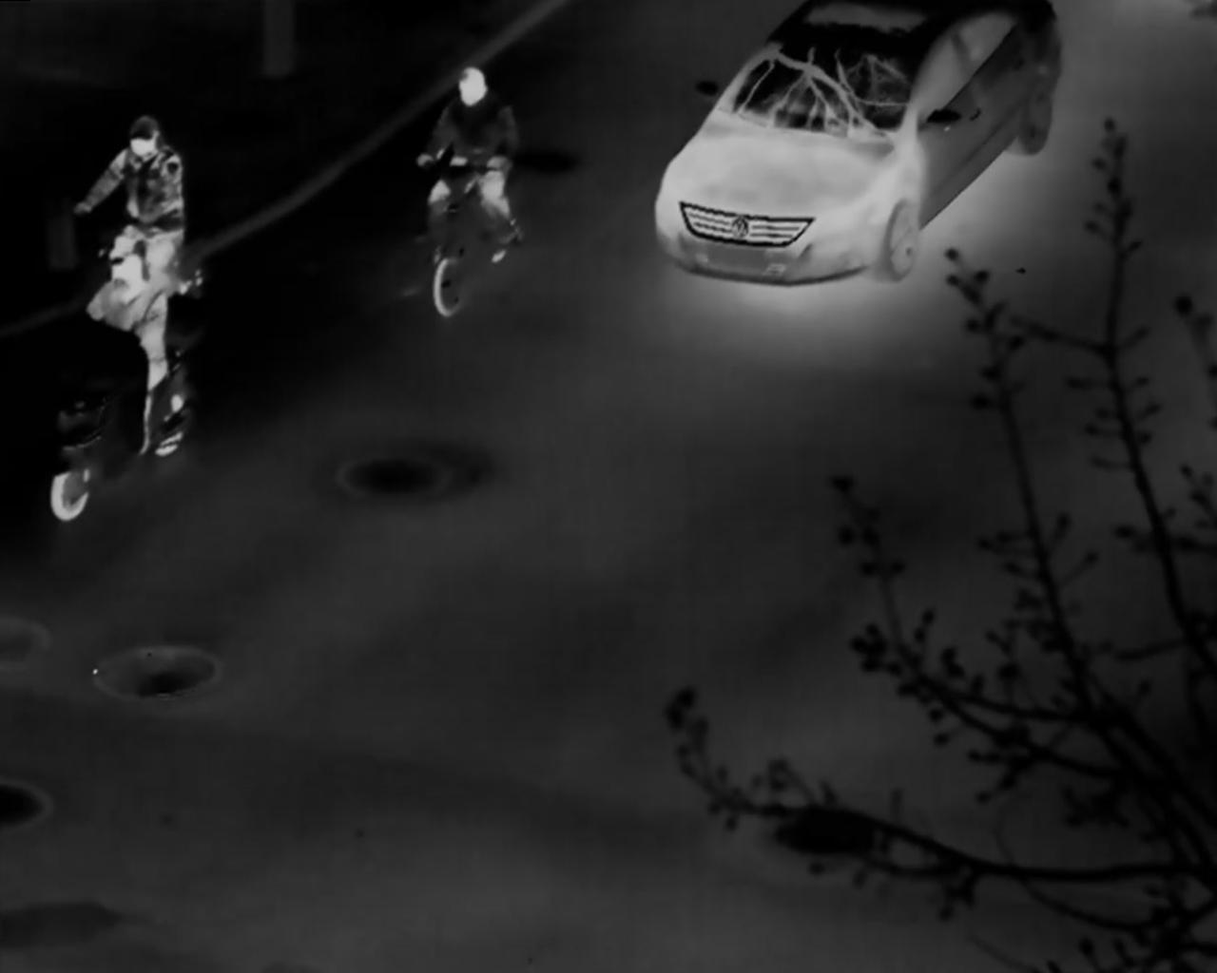person: (76, 110, 187, 299), (78, 246, 172, 461), (420, 67, 522, 264)
